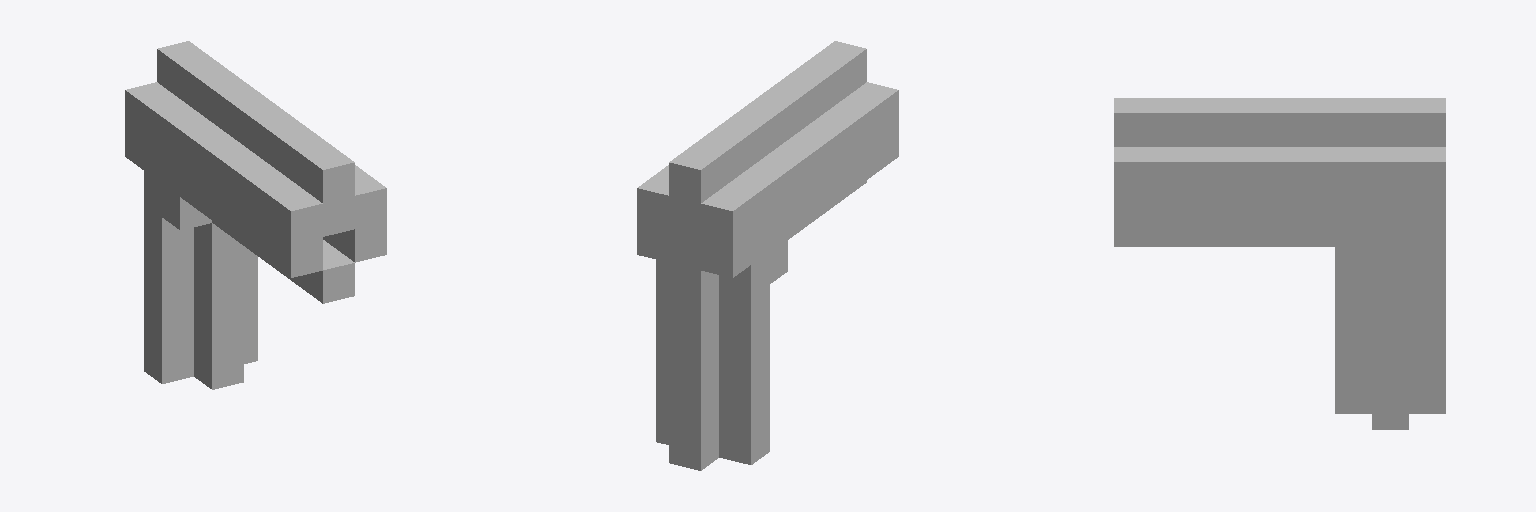
The model's file is pistol.obj.
3 renders of one model, left to right at view 1: azimuth 30°, elevation 25°; view 2: azimuth 150°, elevation 25°; view 3: azimuth 270°, elevation 25°, orthographic.
Visible parts, largest first — view 1: object 1; view 2: object 1; view 3: object 1.
Boxes of the visible parts, <box> form: object 1: <box>125,41,386,389</box>; object 1: <box>637,41,898,470</box>; object 1: <box>1114,98,1445,429</box>.
Bounding box in the file's own units: 0.3 × 0.9 × 0.9.